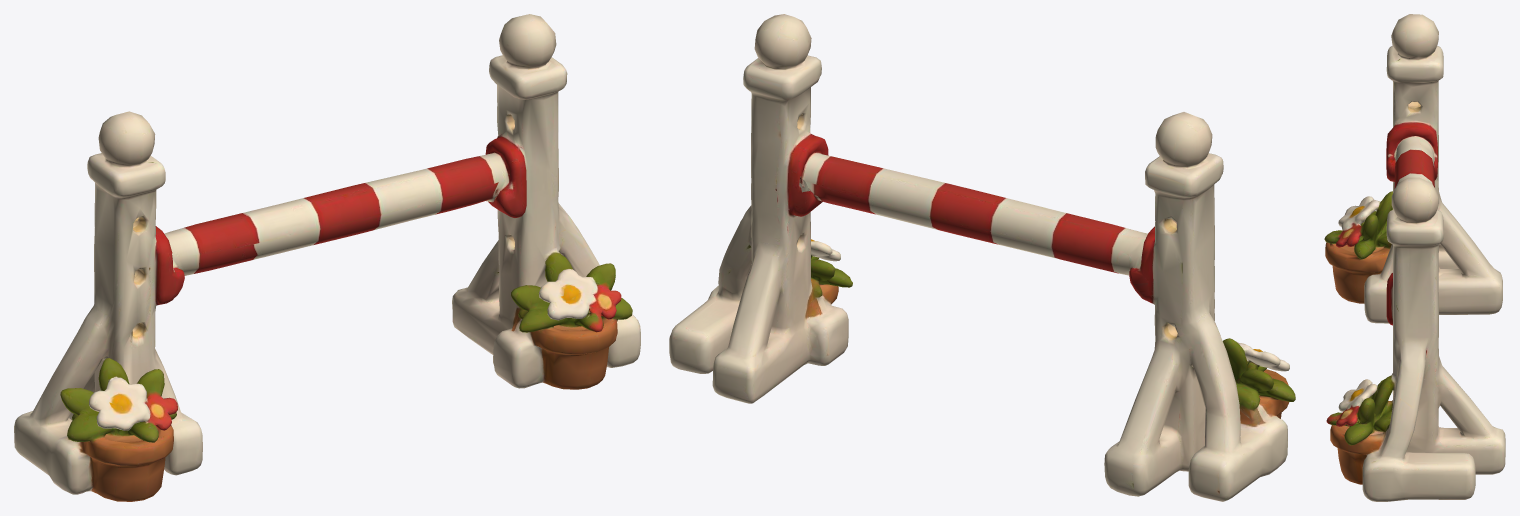
The picture shows the model from 3 angles, left to right: view 1: azimuth 30°, elevation 25°; view 2: azimuth 150°, elevation 25°; view 3: azimuth 270°, elevation 25°; orthographic projection. The views are drawn at different scales.
Parts seen in each view (by area): view 1: horse-jump; view 2: horse-jump; view 3: horse-jump.
Boxes of the visible parts, x1=… form: horse-jump: x1=14, y1=14, x2=640, y2=501; horse-jump: x1=669, y1=14, x2=1295, y2=501; horse-jump: x1=1324, y1=14, x2=1505, y2=501.
Size of the model in its own units: 2 by 1.16 by 0.6582.
Materials: 1 (1 with a texture image).
